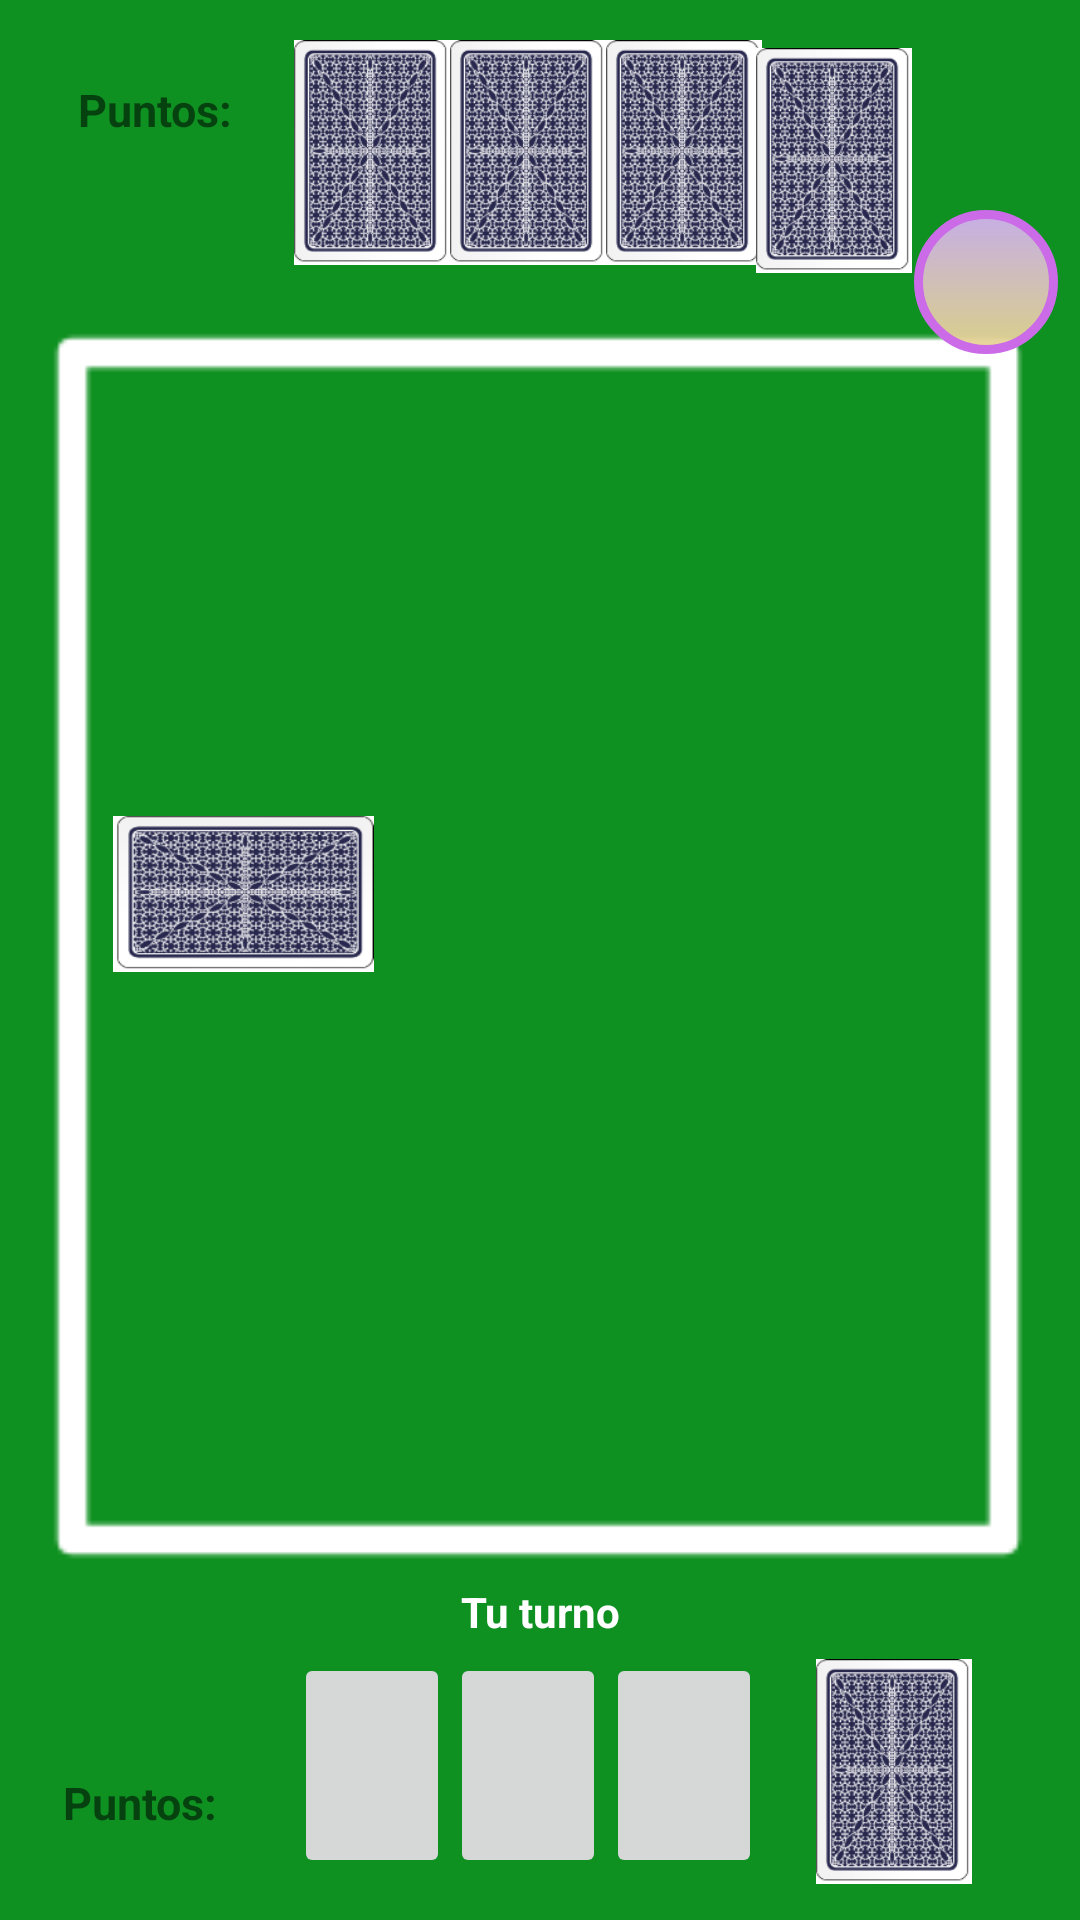

Icon click points for this 1080x1920 phone screenshot, format point (x, y):
trasera: point (372, 152), point (528, 152), point (684, 152), point (834, 160), point (894, 1771)
trasera palo: point (243, 894)
